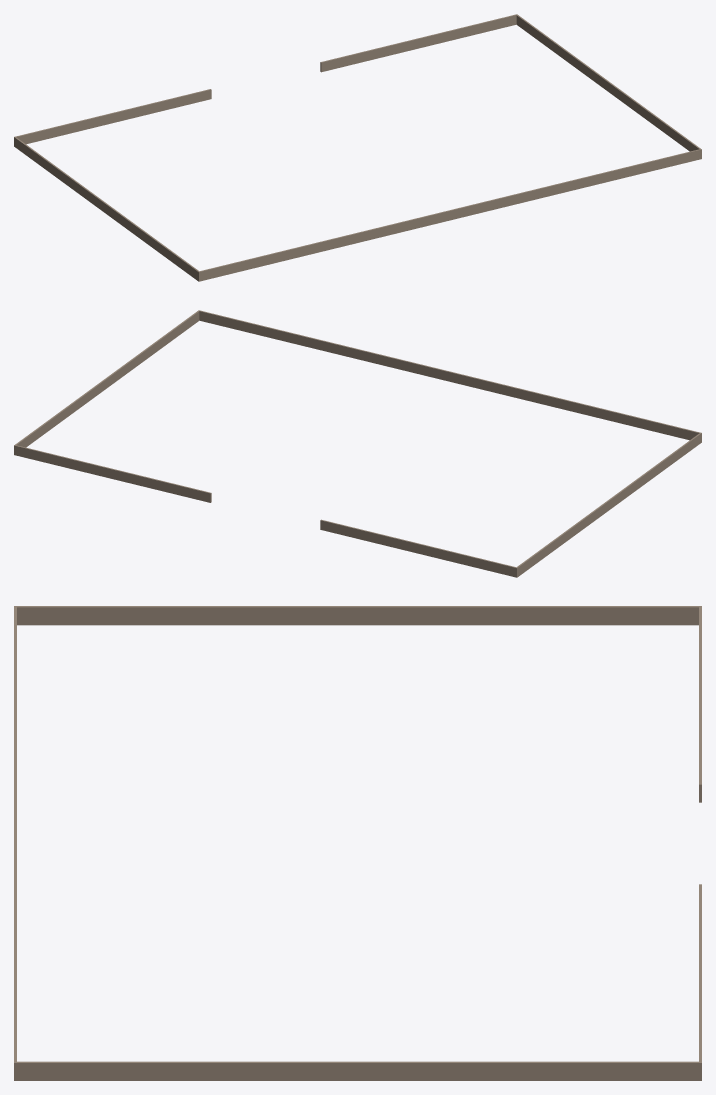
The model's file is ki_plan.glb.
3 views of the same model, one above another, from view 1: azimuth 30°, elevation 25°; view 2: azimuth 150°, elevation 25°; view 3: azimuth 270°, elevation 25° (orthographic). The views are drawn at different scales.
Visible parts, largest first — view 1: ki_plan_trim; view 2: ki_plan_trim; view 3: ki_plan_trim.
Part boxes in pixels (left/top/right/bottom): ki_plan_trim: left=14, top=14, right=701, bottom=281; ki_plan_trim: left=14, top=310, right=701, bottom=577; ki_plan_trim: left=14, top=606, right=701, bottom=1080.
Bounding box in the file's own units: 5.5 × 0.1 × 3.5.
